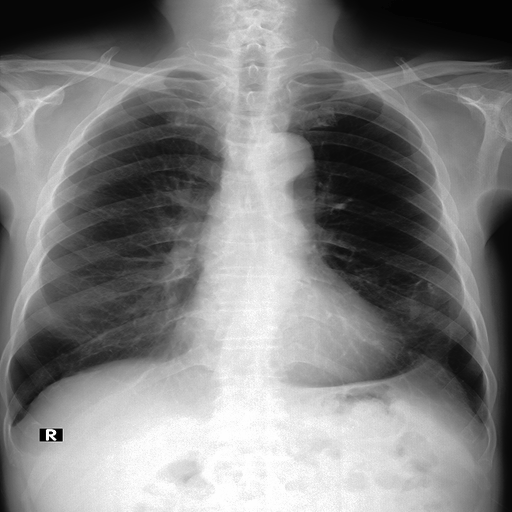Calcification: (416, 349, 440, 381)
Consolidation: (262, 134, 314, 176)
Other lesion: (408, 329, 466, 412)
Pneumothorax: (410, 279, 457, 367)
